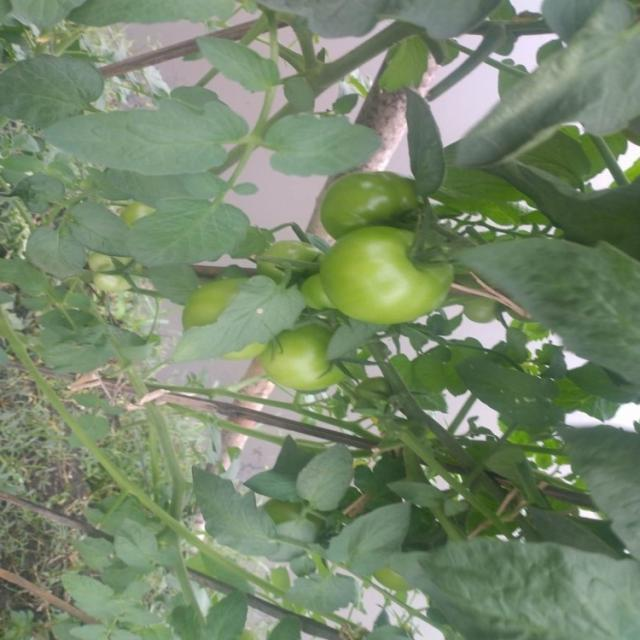tomato: (317, 230, 457, 329), (311, 152, 432, 241), (254, 328, 352, 404), (160, 259, 252, 337), (254, 234, 320, 279)
